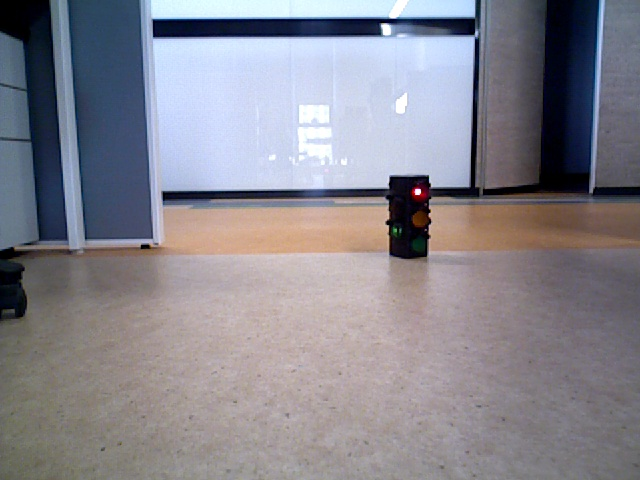red: (387, 175, 430, 254)
